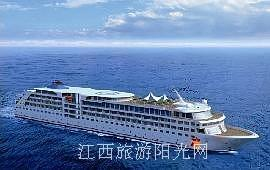youlun: (9, 77, 260, 152)
